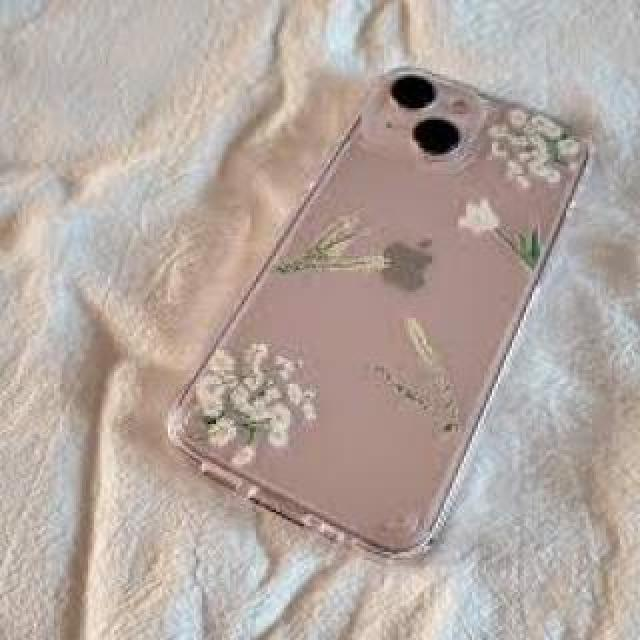smart phone: (127, 50, 618, 594)
